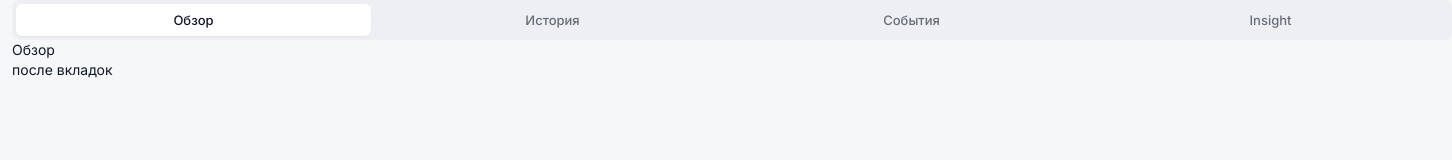
Test case: Tabs › ArrowLeft с вкладки «Обзор» открывает «Insight» и переносит на неё фокус
Click the button "Обзор".
click(194, 20)  # box [16,4,371,36]
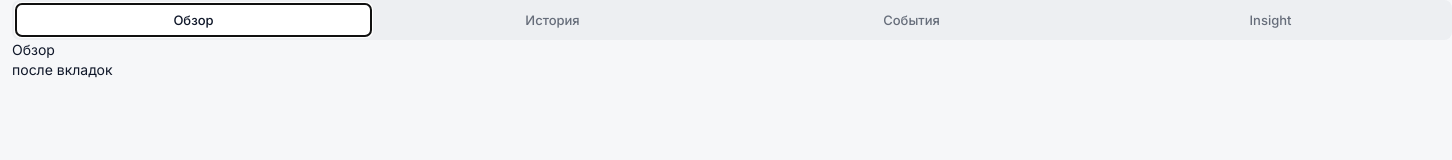
Press Arrowleft
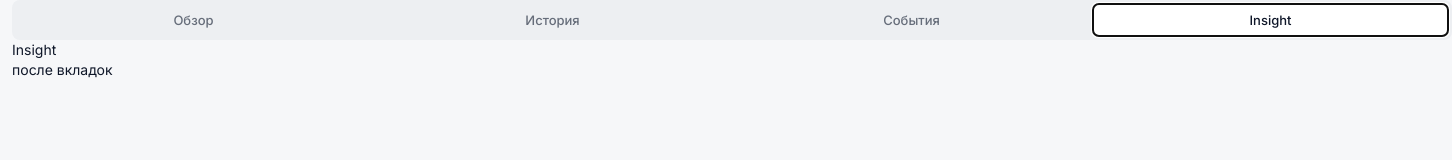
Expected: the text with test id "current" reads "Insight", [12,41,56,58]
